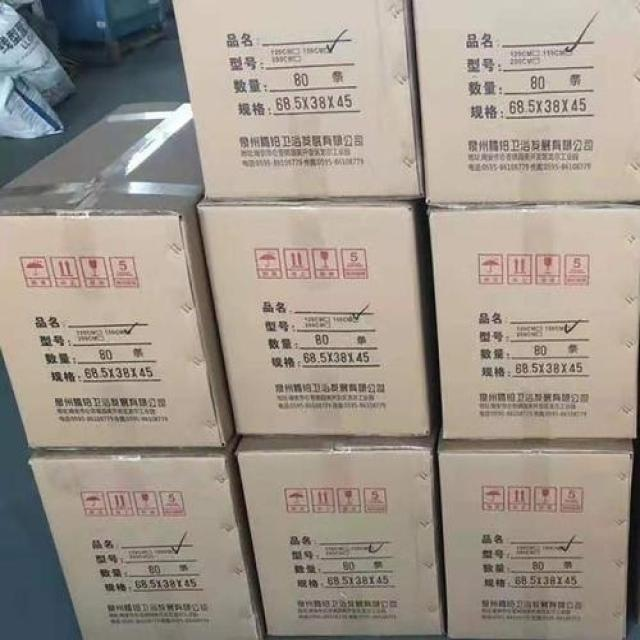box: (0, 100, 235, 448), (196, 197, 441, 436), (173, 0, 425, 200), (427, 202, 639, 439), (28, 429, 266, 639), (236, 408, 446, 635), (411, 0, 639, 209), (438, 419, 634, 639)
